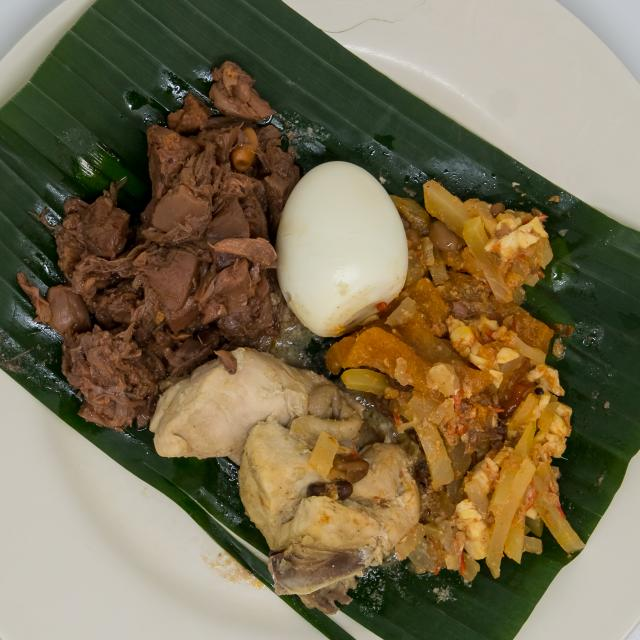Gudeg-Jogja: (9, 29, 611, 614)
